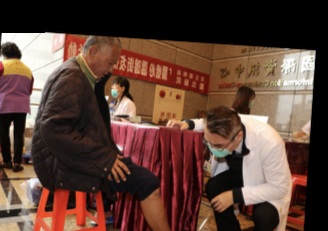with_mask: (202, 134, 234, 158), (109, 83, 120, 99), (245, 96, 254, 109)
without_mask: (90, 56, 118, 81)
